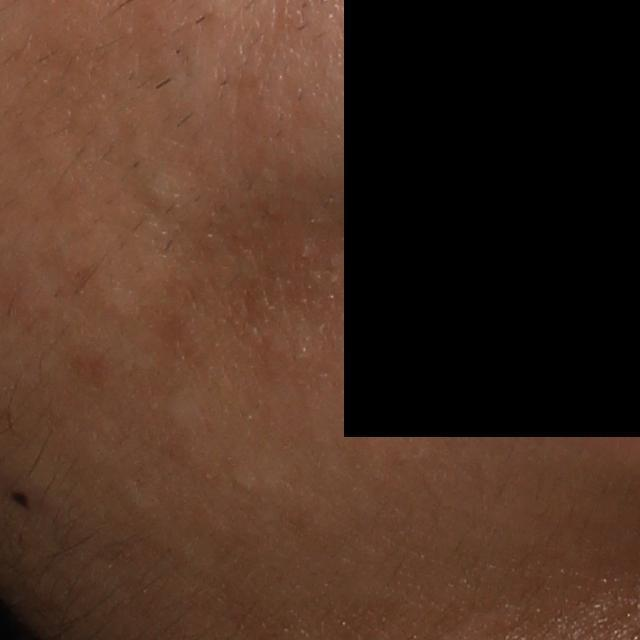nevus: (8, 488, 32, 515)
